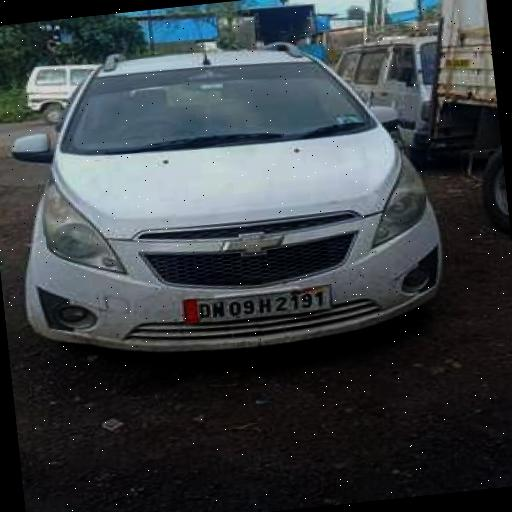license_plate`: (182, 284, 332, 324)
